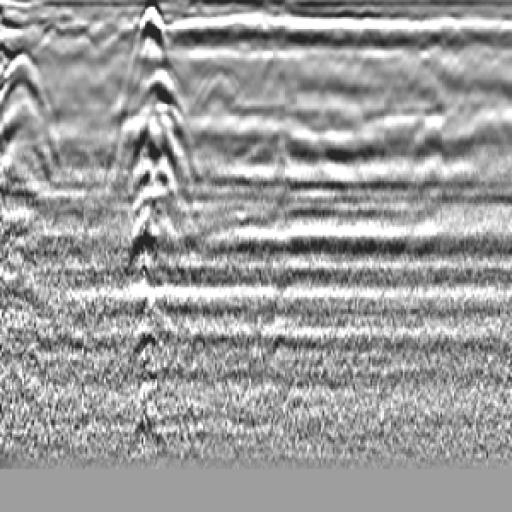metalic: (109, 1, 199, 331)
nonmetalic: (186, 51, 265, 154), (1, 42, 64, 169)
